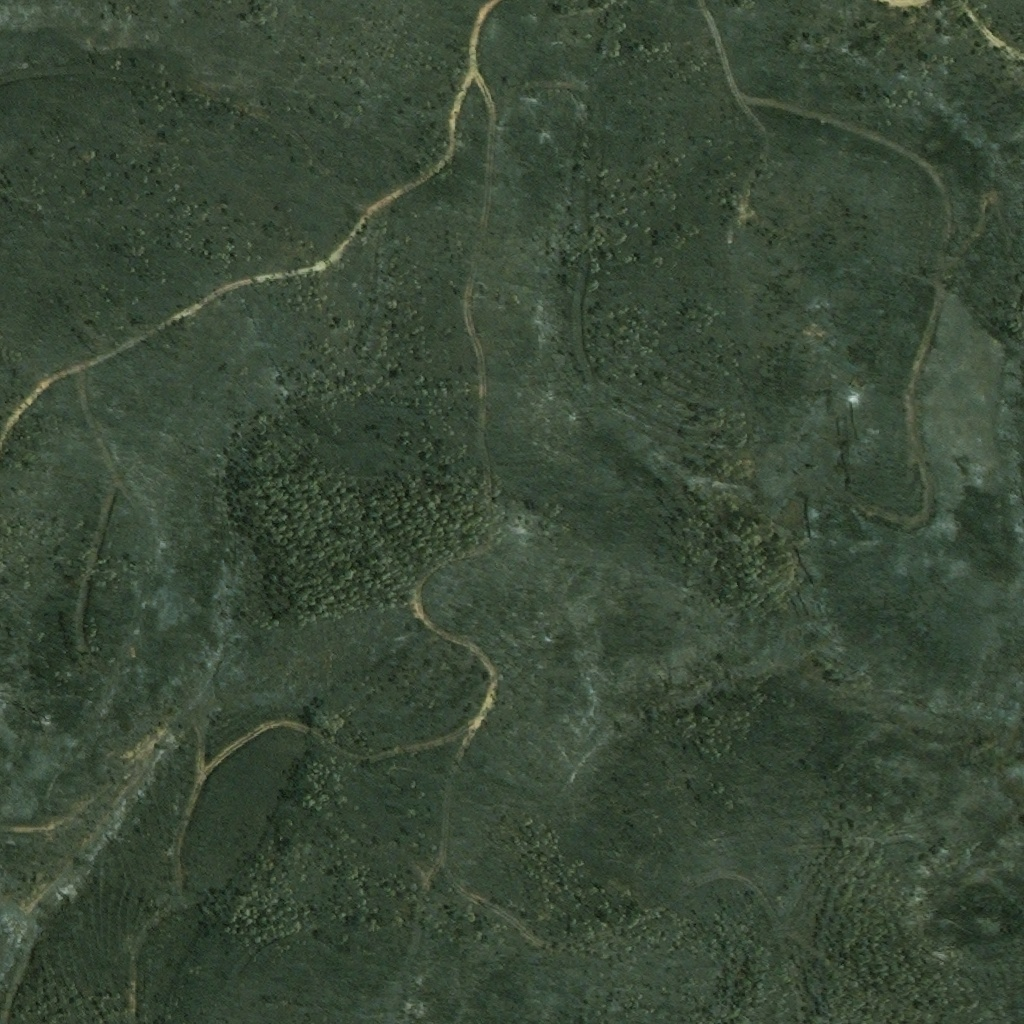4 un-classified: (721, 226, 735, 248)
